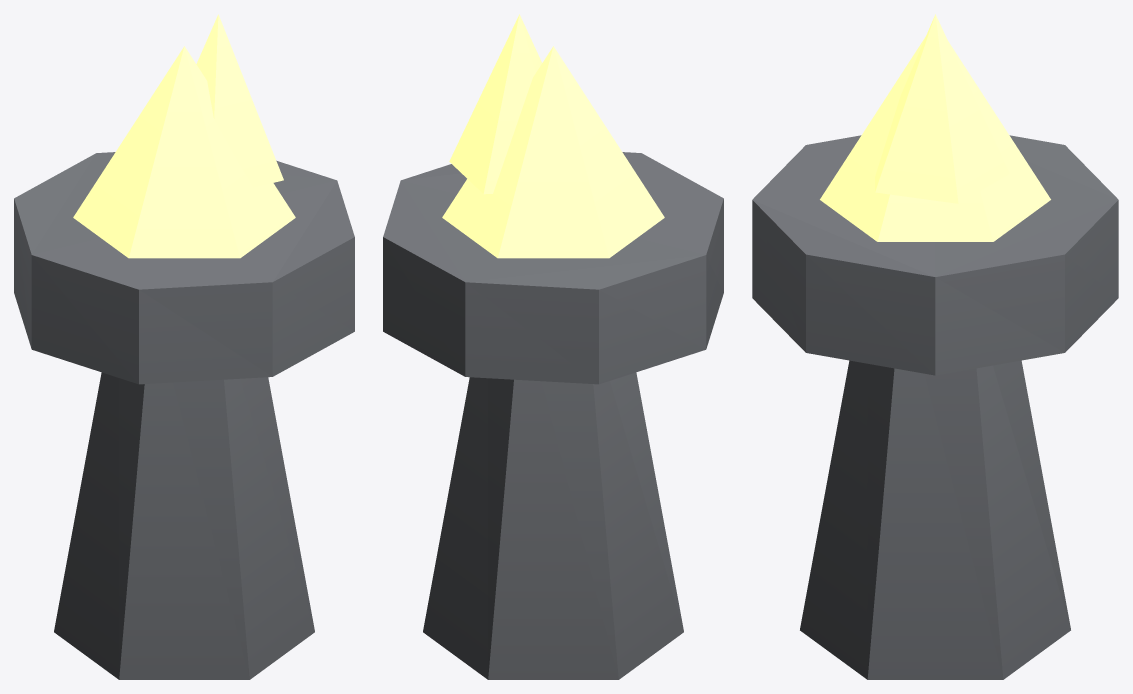
File: brazier.glb
The picture shows the model from 3 angles, left to right: view 1: azimuth 30°, elevation 25°; view 2: azimuth 150°, elevation 25°; view 3: azimuth 270°, elevation 25°; orthographic projection. The views are drawn at different scales.
Visible parts, largest first — view 1: brazier; view 2: brazier; view 3: brazier.
Boxes of the visible parts, left/top/right/bottom form: brazier: left=14, top=14, right=354, bottom=679; brazier: left=383, top=14, right=723, bottom=679; brazier: left=752, top=14, right=1118, bottom=679.
Size of the model in its own units: 0.54 by 1.03 by 0.54.
